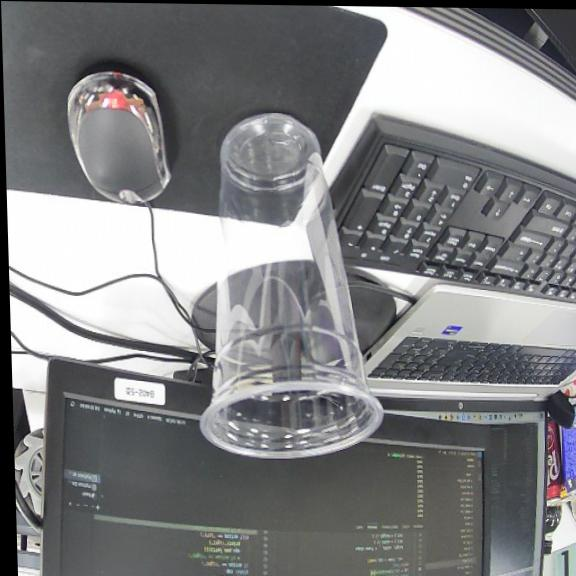Plastik: (199, 113, 382, 457)
